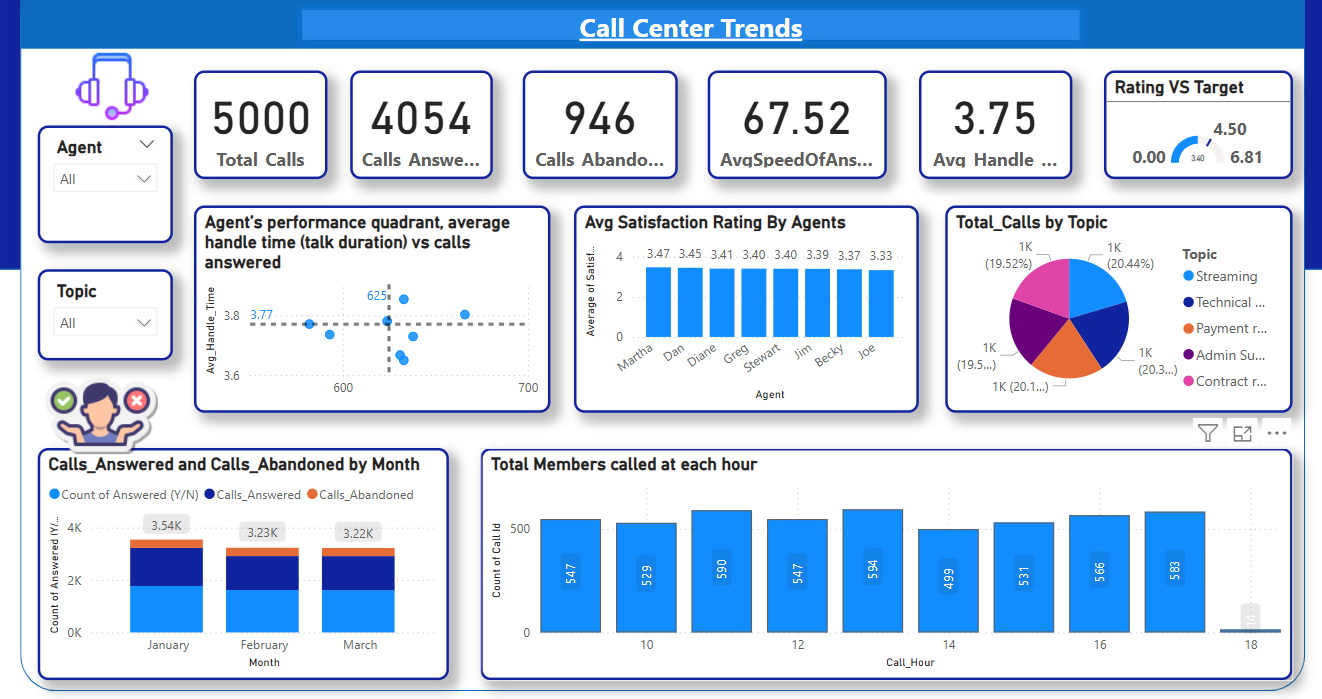

The dashboard page shown, as its layout file describes it:
{"tool":"powerbi","page":{"name":"Page 1","canvas":[1280,720],"ordinal":0},"visuals":[{"type":"shape","box":[0,0,1280,300.8],"z":0},{"type":"shape","box":[20,20,1240.1,687],"z":1000},{"type":"card","fields":{"Values":["Sheet1.Total_Calls"]},"box":[188.2,108.6,129.1,105],"z":2000},{"type":"card","fields":{"Values":["Sheet1.Total_Calls_Answered"]},"box":[339,108.6,137.5,105],"z":3000},{"type":"card","fields":{"Values":["Sheet1.Calls_Abandoned"]},"box":[505.5,108.6,149.6,105],"z":4000},{"type":"card","fields":{"Values":["Sheet1.Avg_Handle_Time"]},"box":[887.9,108.6,148.4,105],"z":5000},{"type":"card","fields":{"Values":["Sheet1.AverageSpeedOfAnswer"]},"box":[684.1,108.6,172.5,105],"z":6000},{"type":"slicer","fields":{"Values":["Sheet1.Agent"]},"box":[37.4,161.7,130.3,113.4],"z":7000},{"type":"slicer","fields":{"Values":["Sheet1.Topic"]},"box":[37.4,300.4,130.3,88.1],"z":8000},{"type":"gauge","title":"Rating VS Target","fields":{"Y":["Sheet1.AvgSatisfactionRating"],"TargetValue":["Sheet1.Target Rating"]},"box":[1066.5,108.6,182.2,105],"z":9000},{"type":"columnChart","title":"Calls_Answered and Calls_Abandoned by Month","fields":{"Category":["Sheet1.Date.Variation.Date Hierarchy.Month"],"Y":["Sheet1.Answered (Y/N)","Sheet1.Calls_Answered","Sheet1.Calls_Abandoned"]},"box":[37.4,472.9,399.3,224.4],"z":10000},{"type":"scatterChart","title":"Agent’s performance quadrant, average handle time (talk duration) vs calls answered","fields":{"Category":["Sheet1.Agent"],"Y":["Sheet1.Avg_Handle_Time"],"X":["Sheet1.Total_Calls"]},"box":[188.2,238.9,343.8,200.3],"z":11000},{"type":"columnChart","title":"Avg Satisfaction Rating By Agents","fields":{"Category":["Sheet1.Agent"],"Y":["Sheet1.Satisfaction rating"]},"box":[555,238.9,333,200.3],"z":12000},{"type":"pieChart","fields":{"Category":["Sheet1.Topic"],"Y":["Sheet1.Total_Calls"]},"box":[913.3,238.9,335.4,200.3],"z":13000},{"type":"clusteredColumnChart","title":"Total Members called at each hour","fields":{"Category":["Sheet1.Call_Hour"],"Y":["Sheet1.Call Id"]},"box":[464.5,472.9,784.2,224.4],"z":14000},{"type":"shape","box":[20,20,1240.1,67],"z":15000},{"type":"shape","box":[283.5,41,768.5,47.1],"z":16000},{"type":"image","box":[60.3,76,97.7,96.5],"z":17000},{"type":"image","box":[37.4,375.2,120.6,127.9],"z":18000}]}

Visuals, with their boxes in screenshot pixels (x1, y1, x2, y2):
shape: 0/0/1317/265
shape: 21/0/1297/683
card - Sheet1.Total_Calls: 194/67/326/175
card - Sheet1.Total_Calls_Answered: 349/67/490/175
card - Sheet1.Calls_Abandoned: 520/67/674/175
card - Sheet1.Avg_Handle_Time: 914/67/1066/175
card - Sheet1.AverageSpeedOfAnswer: 704/67/881/175
slicer - Sheet1.Agent: 38/122/173/238
slicer - Sheet1.Topic: 38/264/173/355
"Rating VS Target" gauge: 1097/67/1285/175
"Calls_Answered and Calls_Abandoned by Month" columnChart: 38/442/449/673
"Agent’s performance quadrant, average handle time (talk duration) vs calls answered" scatterChart: 194/201/547/407
"Avg Satisfaction Rating By Agents" columnChart: 571/201/914/407
pieChart - Sheet1.Topic x Sheet1.Total_Calls: 940/201/1285/407
"Total Members called at each hour" clusteredColumnChart: 478/442/1285/673
shape: 21/0/1297/45
shape: 292/0/1082/46
image: 62/33/163/133
image: 38/341/163/473
